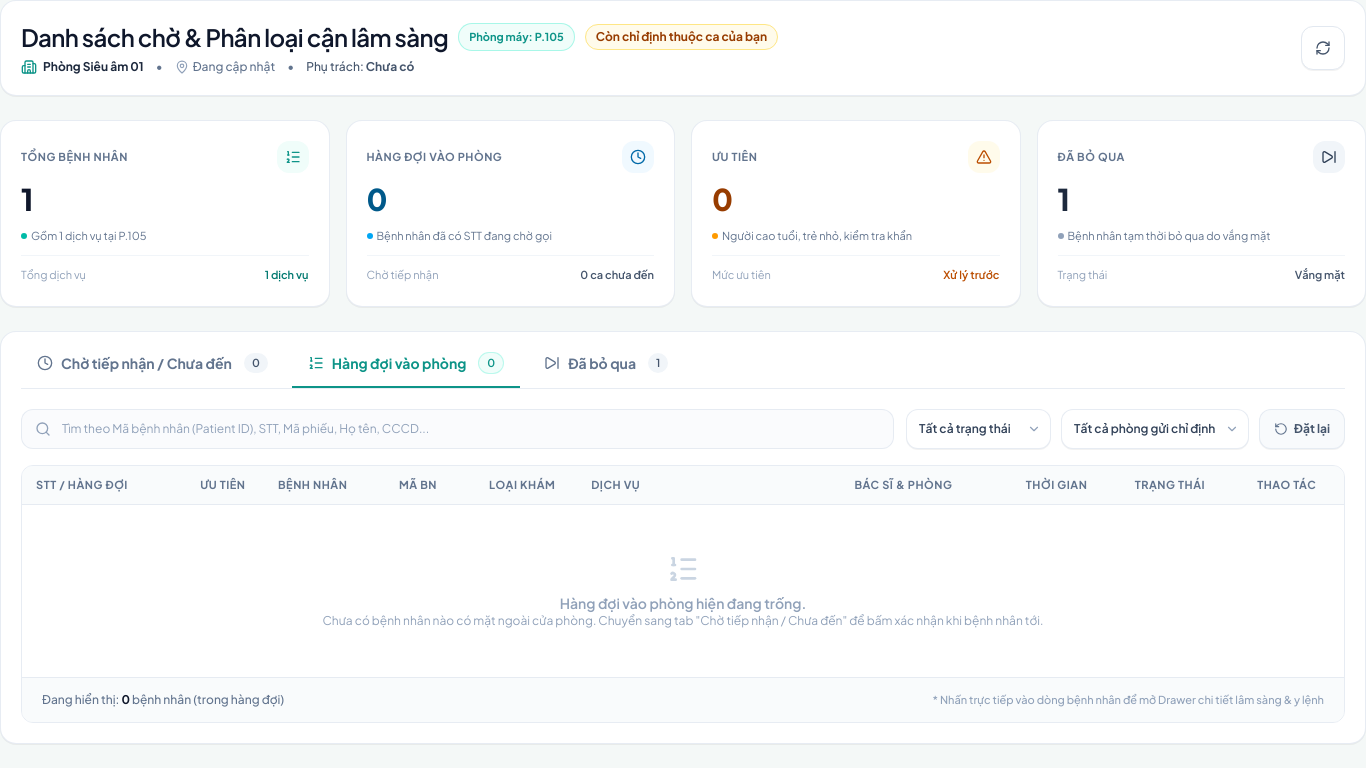
Test: TechnicianQueuePage – UC-66 Perform Paraclinical Order › Tab 3: Đã bỏ qua (Skipped Patients) & UC-46 Tiếp nhận lại › disables "Tiếp nhận lại" button with MSG48 when canManage is false
Click the button "Đã bỏ qua 1" at coordinates (606, 370), box left=528, top=353, right=684, bottom=387
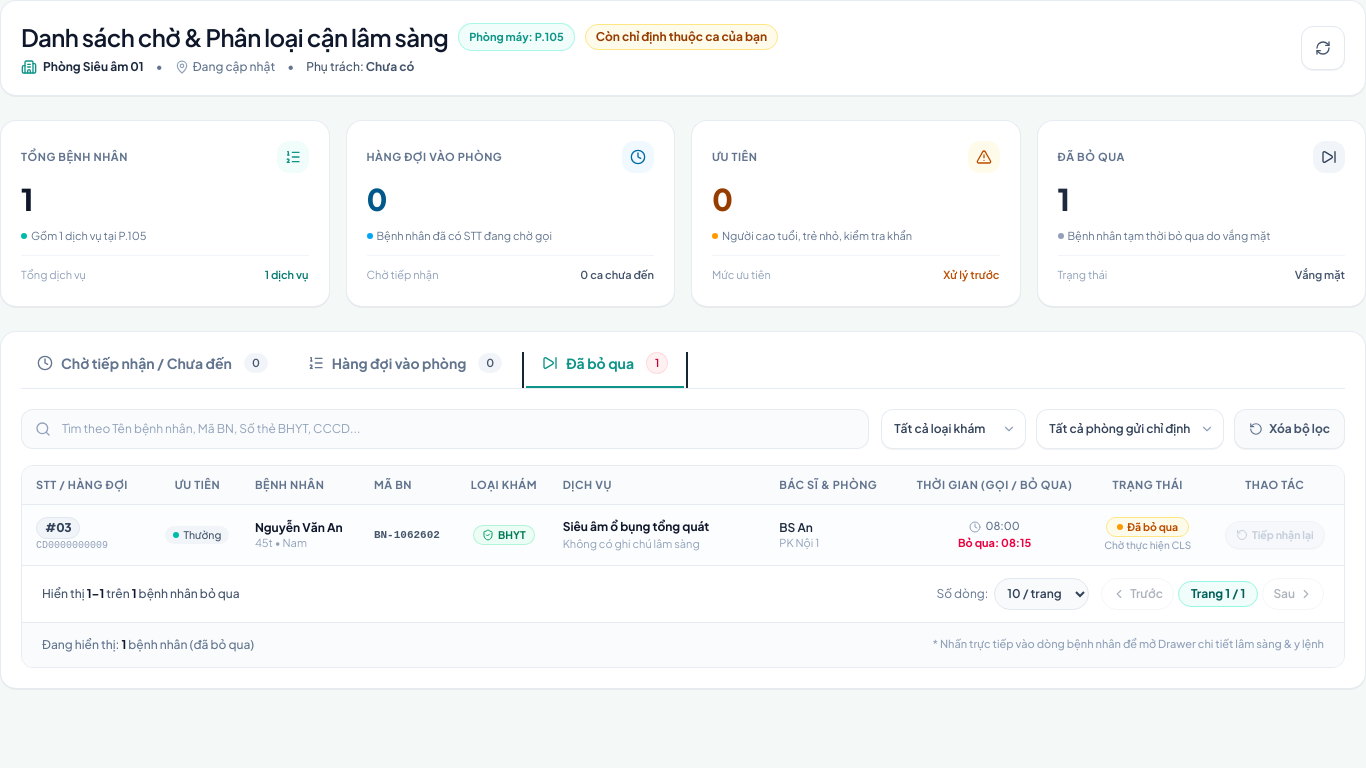
Now the text "Nguyễn Văn An" is shown, box left=255, top=520, right=352, bottom=536
Now the button "Tiếp nhận lại" is disabled, box left=1225, top=521, right=1325, bottom=549
